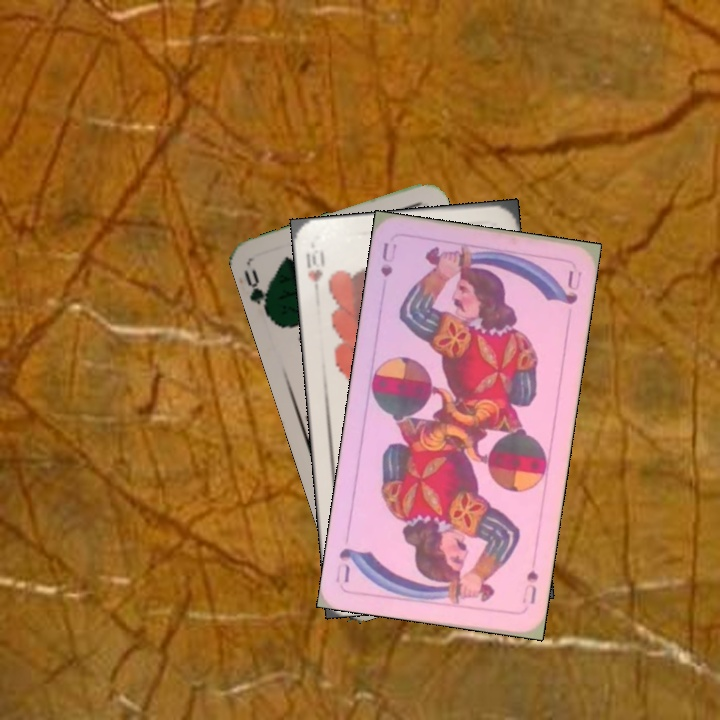GO: (240, 265, 273, 320)
H10: (301, 245, 327, 285)
SU: (376, 238, 400, 280), (518, 565, 541, 607)
